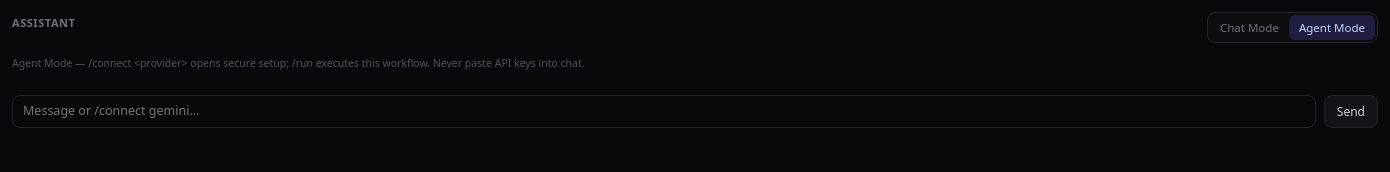
it: AssistantPanel modes › renders both modes and switching works
This screenshot has width=1390, height=172.
expect the text "Agent Mode —" is shown: met, box [12,56,430,70]
Click the tab "Chat Mode" at (1249, 28), box [1210,15,1289,40]
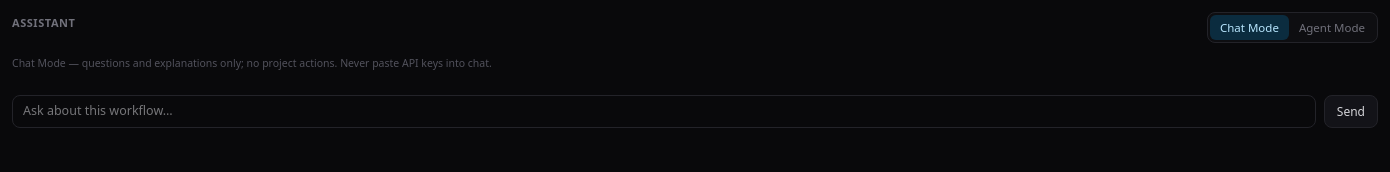
expect the text "Chat Mode —" is shown: met, box [12,56,337,70]
